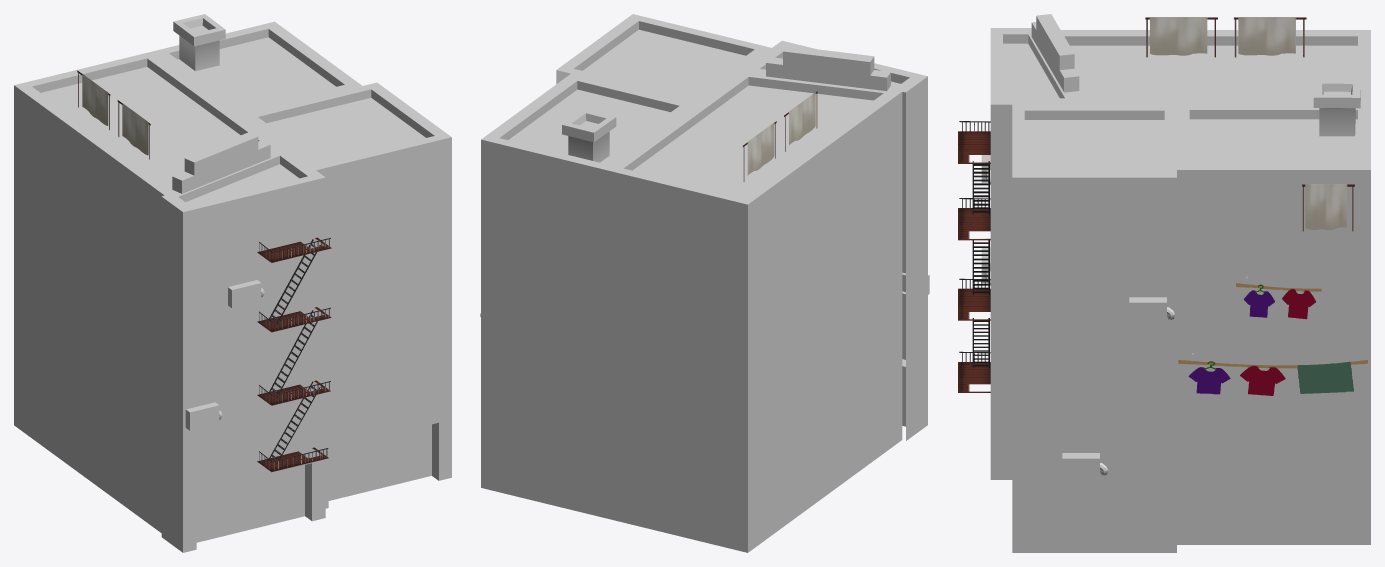
The model's file is Flat_T1.fbx.
The picture shows the model from 3 angles, left to right: view 1: azimuth 30°, elevation 25°; view 2: azimuth 150°, elevation 25°; view 3: azimuth 270°, elevation 25°; orthographic projection. The views are drawn at different scales.
Visible parts, largest first — view 1: Flat_T1, chimney, pCube12, pCube11, Stair, Stair2, Stair3, cloth5, cloth3, Stair4, aircon9, aircon8; view 2: Flat_T1, chimney, pCube11, pCube12, cloth3, cloth5; view 3: Flat_T1, cloth2, cloth3, cloth5, chimney, cloth4, Stair, Stair2, cloth, Stair3, pCube12, aircon (+3 smaller).
Boxes of the visible parts, <box> form: Flat_T1: <box>14,21,451,552</box>; chimney: <box>173,14,225,70</box>; pCube12: <box>184,132,258,175</box>; pCube11: <box>172,140,270,193</box>; Stair: <box>257,237,331,324</box>; Stair2: <box>257,307,331,397</box>; Stair3: <box>257,380,330,464</box>; cloth5: <box>117,100,150,159</box>; cloth3: <box>77,70,110,129</box>; Stair4: <box>257,447,328,472</box>; aircon9: <box>185,402,222,430</box>; aircon8: <box>228,280,264,308</box>; Flat_T1: <box>481,14,927,552</box>; chimney: <box>562,109,616,162</box>; pCube11: <box>766,57,890,91</box>; pCube12: <box>783,45,874,75</box>; cloth3: <box>742,121,776,181</box>; cloth5: <box>784,91,817,151</box>; Flat_T1: <box>990,28,1370,552</box>; cloth2: <box>1178,353,1367,395</box>; cloth3: <box>1233,17,1306,57</box>; cloth5: <box>1145,17,1217,57</box>; chimney: <box>1313,80,1360,136</box>; cloth4: <box>1302,184,1354,231</box>; Stair: <box>958,121,990,214</box>; Stair2: <box>958,198,990,295</box>; cloth: <box>1236,276,1321,319</box>; Stair3: <box>958,278,990,368</box>; pCube12: <box>1036,14,1074,69</box>; aircon: <box>1062,453,1107,478</box>.
Bounding box in the file's own units: 37.39 × 45.81 × 41.87.
Materials: 3 (2 with a texture image).
